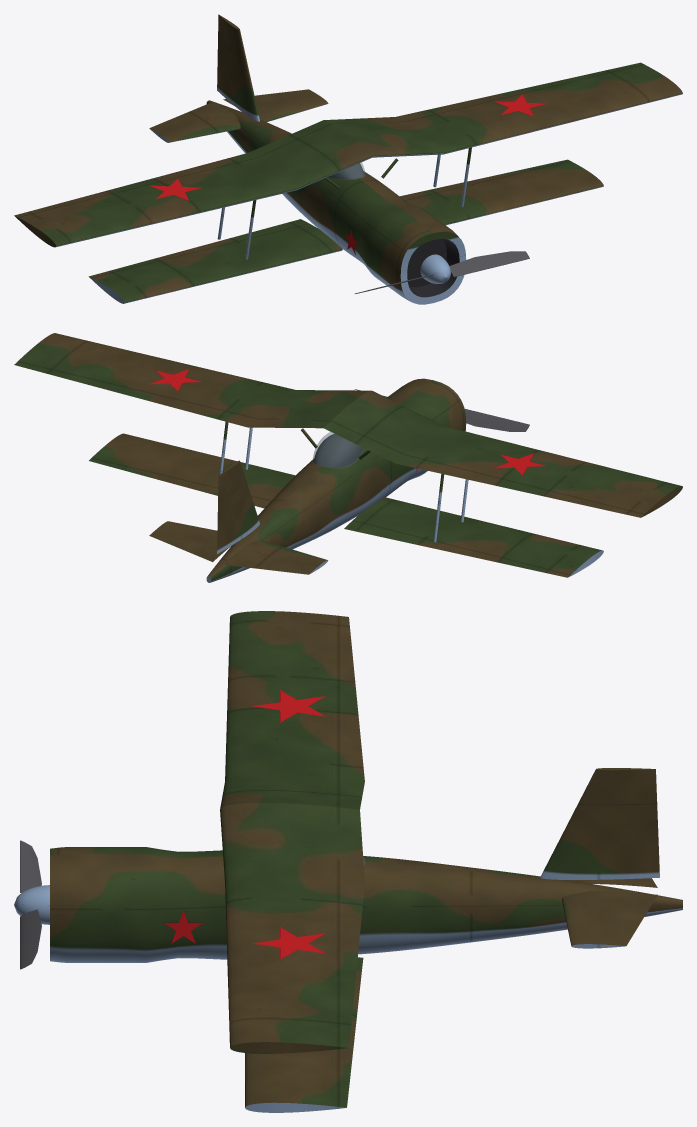
The model's file is 51_I15bis.glb.
The picture shows the model from 3 angles, top to bottom: view 1: azimuth 30°, elevation 25°; view 2: azimuth 150°, elevation 25°; view 3: azimuth 270°, elevation 25°; orthographic projection. The views are drawn at different scales.
Parts seen in each view (by area): view 1: Wing0_R, Wing0_L, Fuselage, Wing21_R, Wing21_L, Intake, Fin3, Htail2_R, Propeller, Htail2_L, Decal_Wing_U_R, Decal_Wing_U_L; view 2: Wing0_R, Wing0_L, Fuselage, Wing21_R, Wing21_L, Fin3, Htail2_R, Htail2_L, Canopy, Cockpit, Propeller, Decal_Wing_U_L (+3 smaller); view 3: Fuselage, Wing0_L, Wing0_R, Fin3, Wing21_L, Htail2_L, Propeller, Decal_Wing_U_R, Decal_Wing_U_L.
Boxes of the visible parts, x1=… form: Wing0_R: x1=14, y1=120, x2=372, y2=247; Wing0_L: x1=324, y1=62, x2=682, y2=157; Fuselage: x1=206, y1=100, x2=457, y2=302; Wing21_R: x1=88, y1=219, x2=342, y2=303; Wing21_L: x1=400, y1=159, x2=603, y2=225; Intake: x1=400, y1=231, x2=466, y2=304; Fin3: x1=217, y1=14, x2=259, y2=121; Htail2_R: x1=149, y1=102, x2=240, y2=142; Propeller: x1=355, y1=251, x2=529, y2=293; Htail2_L: x1=223, y1=89, x2=328, y2=121; Decal_Wing_U_R: x1=149, y1=178, x2=202, y2=200; Decal_Wing_U_L: x1=494, y1=94, x2=547, y2=116; Wing0_R: x1=324, y1=390, x2=682, y2=517; Wing0_L: x1=14, y1=333, x2=370, y2=428; Fuselage: x1=206, y1=378, x2=466, y2=582; Wing21_R: x1=344, y1=497, x2=603, y2=577; Wing21_L: x1=89, y1=433, x2=295, y2=508; Fin3: x1=217, y1=460, x2=259, y2=553; Htail2_R: x1=223, y1=540, x2=328, y2=574; Htail2_L: x1=149, y1=521, x2=230, y2=561; Canopy: x1=313, y1=432, x2=363, y2=468; Cockpit: x1=314, y1=434, x2=362, y2=467; Propeller: x1=354, y1=389, x2=529, y2=431; Decal_Wing_U_L: x1=149, y1=369, x2=202, y2=391; Fuselage: x1=50, y1=847, x2=682, y2=962; Wing0_L: x1=220, y1=803, x2=364, y2=1053; Wing0_R: x1=220, y1=611, x2=364, y2=809; Fin3: x1=540, y1=768, x2=659, y2=879; Wing21_L: x1=245, y1=957, x2=363, y2=1112; Htail2_L: x1=561, y1=891, x2=657, y2=948; Propeller: x1=14, y1=840, x2=49, y2=969; Decal_Wing_U_R: x1=252, y1=690, x2=325, y2=722; Decal_Wing_U_L: x1=252, y1=927, x2=325, y2=959.
Bounding box in the file's own units: 10.2 × 2.06 × 6.69.
6 materials, 2 textured.
